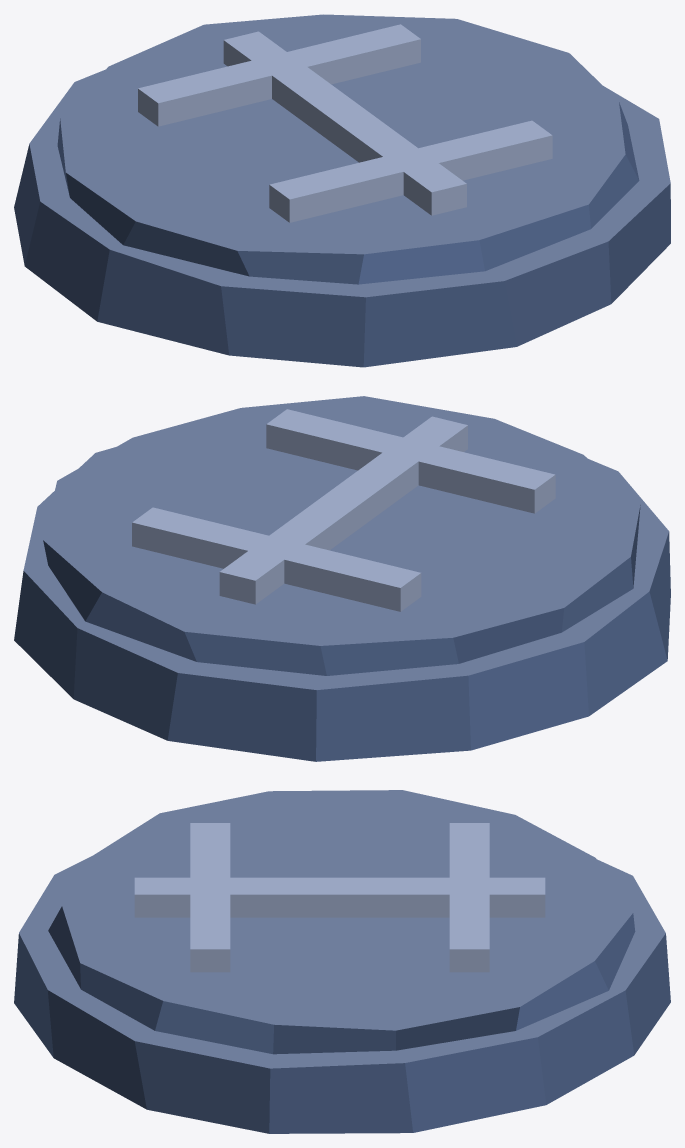
Rendered from Spellstone_Deep.glb.
3 renders of one model, top to bottom at view 1: azimuth 30°, elevation 25°; view 2: azimuth 150°, elevation 25°; view 3: azimuth 270°, elevation 25°, orthographic. The views are drawn at different scales.
Visible parts, largest first — view 1: Spellstone_Deep; view 2: Spellstone_Deep; view 3: Spellstone_Deep.
Boxes of the visible parts, bbox=[...] form: Spellstone_Deep: bbox=[14, 14, 670, 367]; Spellstone_Deep: bbox=[14, 396, 670, 761]; Spellstone_Deep: bbox=[14, 790, 670, 1133].
Bounding box in the file's own units: 0.8282 × 0.163 × 0.8516.
